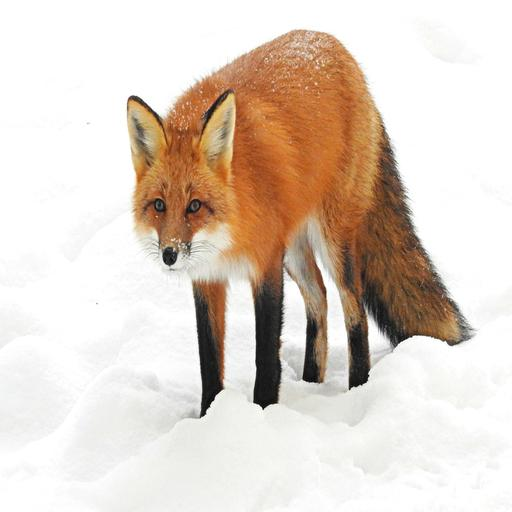Fox: (120, 21, 477, 428)
